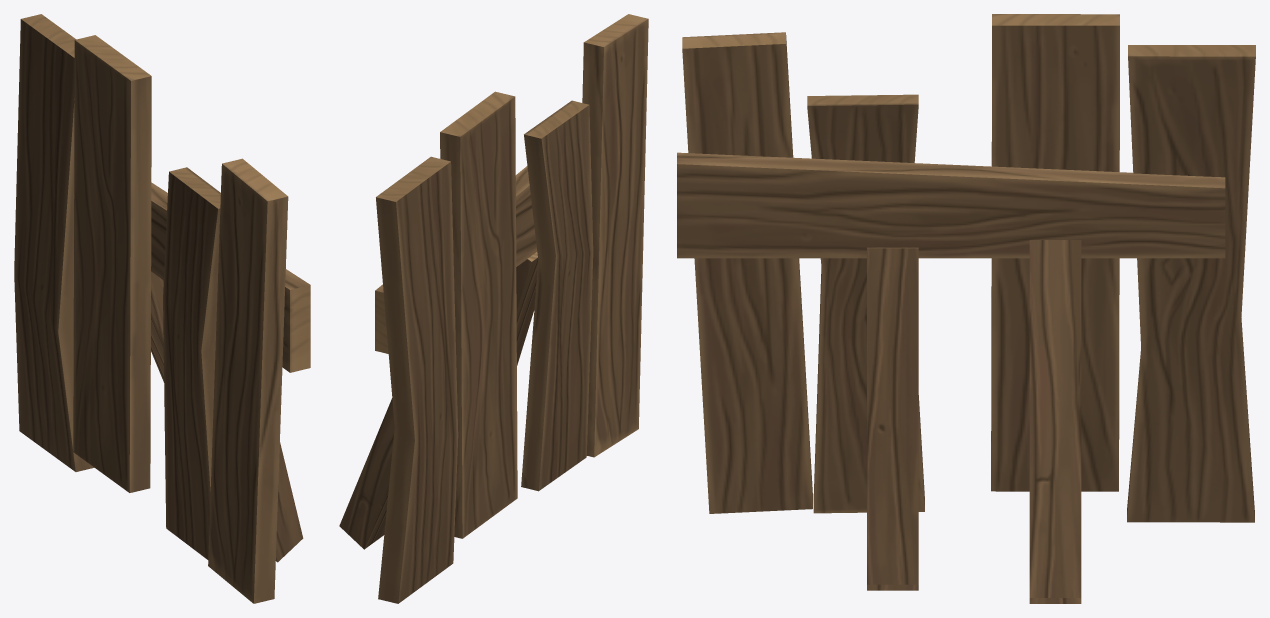
Rendered from Wood_el_04.fbx.
3 renders of one model, left to right at view 1: azimuth 30°, elevation 25°; view 2: azimuth 150°, elevation 25°; view 3: azimuth 270°, elevation 25°, orthographic. The views are drawn at different scales.
Parts seen in each view (by area): view 1: polySurface2050; view 2: polySurface2050; view 3: polySurface2050.
Part boxes in pixels (left/top/right/bottom): polySurface2050: left=14, top=14, right=310, bottom=603; polySurface2050: left=339, top=14, right=648, bottom=603; polySurface2050: left=677, top=14, right=1255, bottom=603.
Bounding box in the file's own units: 26 × 77.7 × 77.5.
1 material, 1 textured.
